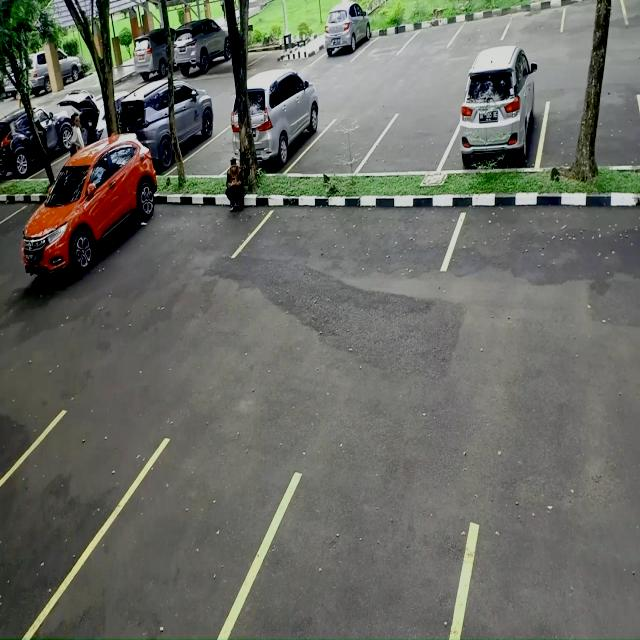empty: (21, 441, 280, 638), (238, 475, 479, 638), (0, 421, 135, 639), (454, 202, 640, 286), (248, 207, 460, 274), (94, 204, 249, 266), (543, 98, 640, 170), (376, 112, 457, 173), (306, 117, 380, 174), (503, 0, 564, 36), (561, 0, 626, 32), (187, 132, 231, 177), (456, 8, 509, 43), (408, 14, 456, 51), (366, 27, 408, 59), (622, 0, 640, 25)
occupied: (13, 159, 168, 281), (455, 69, 541, 172), (254, 84, 320, 176), (146, 88, 213, 169), (324, 10, 368, 62)
